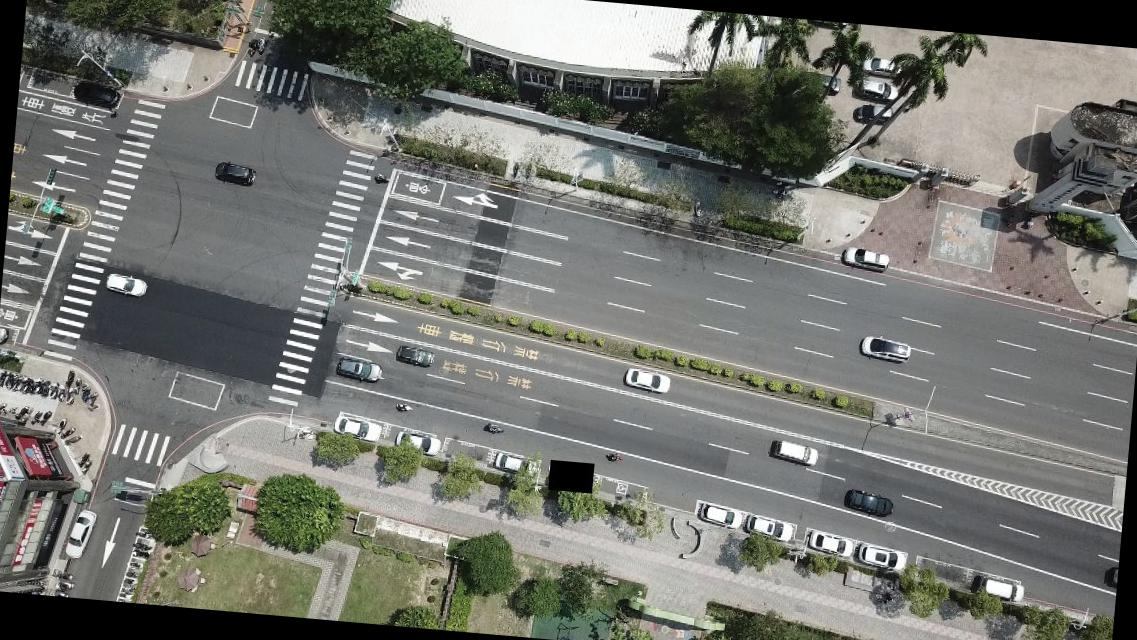vehicle: (68, 76, 125, 112), (61, 506, 96, 560), (742, 512, 794, 544), (858, 334, 910, 366), (332, 414, 382, 446), (856, 542, 907, 573), (842, 489, 894, 518), (807, 528, 854, 558), (770, 440, 818, 469), (492, 448, 538, 478), (622, 368, 671, 396), (842, 246, 890, 274), (393, 431, 442, 456), (698, 502, 743, 529), (336, 357, 382, 383), (103, 271, 147, 298), (212, 161, 255, 188), (977, 578, 1024, 602), (857, 56, 902, 80), (394, 343, 435, 367), (854, 80, 896, 102), (854, 104, 894, 124), (818, 72, 839, 93)
